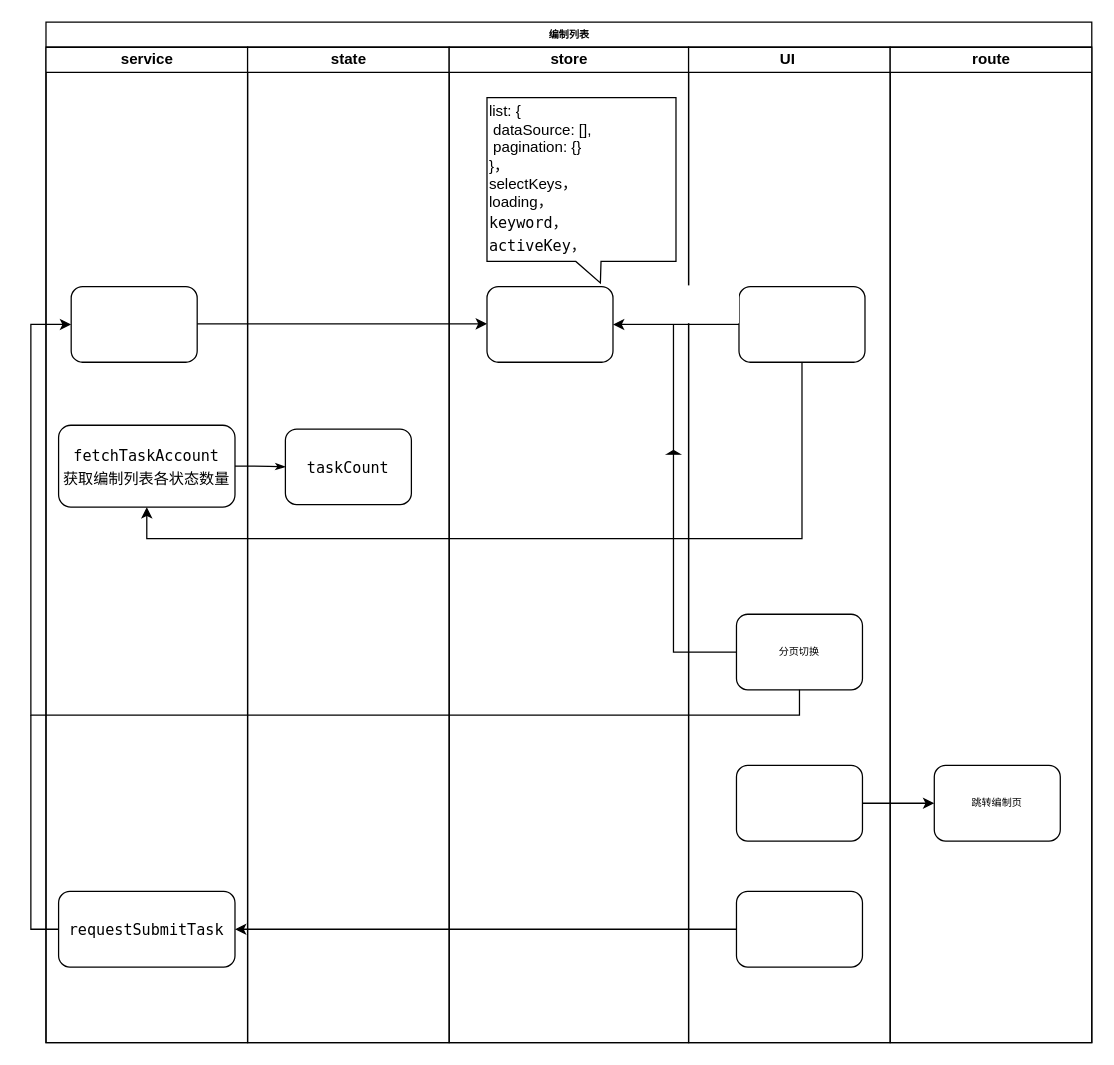
The diagram is 1114 pixels wide and 1065 high, and some of its shapes have lost their labels. The centre of each missing label's shape, as x and y in pixels:
activeKey: (x=681, y=304)
fetchTaskList 获取任务列表: (x=133, y=323)
saveData: (x=549, y=323)
tab切换: (x=801, y=323)
录入执行数: (x=798, y=802)
提交: (x=798, y=928)
